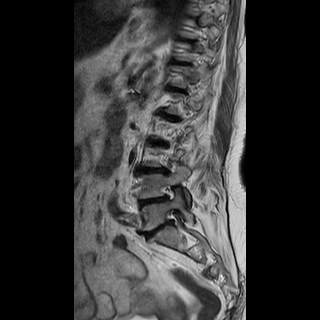LFS0: (157, 179, 183, 204)
